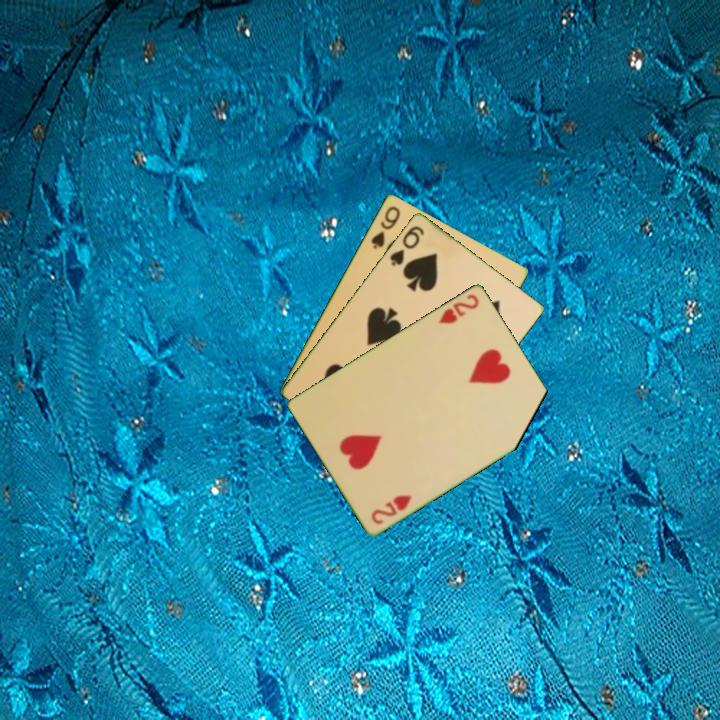2h: (435, 290, 482, 326), (368, 491, 415, 527)
6s: (386, 222, 427, 269)
9s: (367, 202, 403, 251)
